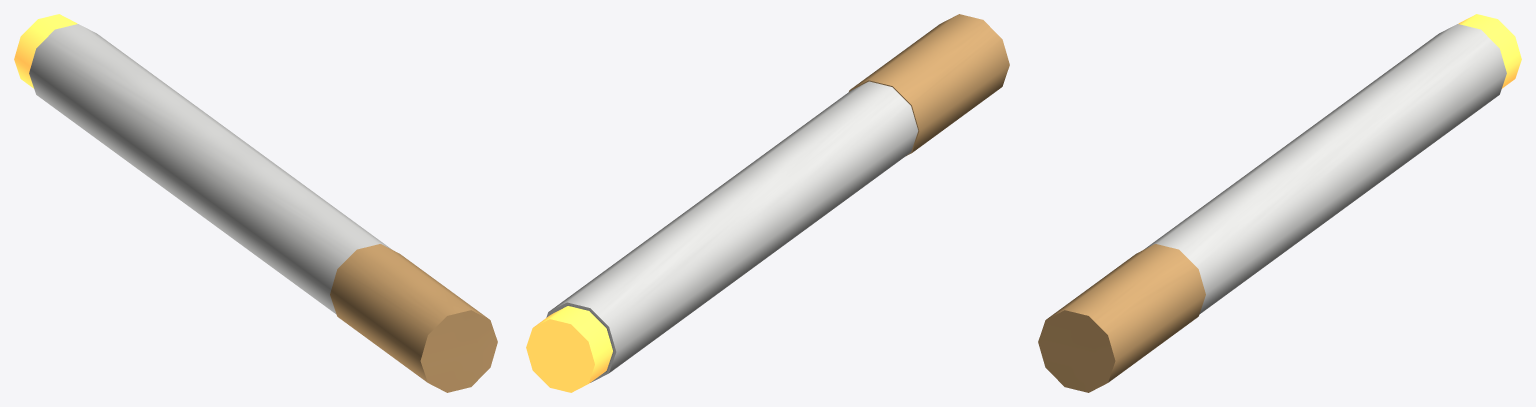
File: cig.glb
3 views of the same model, side by side, from view 1: azimuth 30°, elevation 25°; view 2: azimuth 150°, elevation 25°; view 3: azimuth 330°, elevation 25° (orthographic).
Parts seen in each view (by area): view 1: cig_body, Tip; view 2: cig_body, Tip; view 3: cig_body, Tip.
Part boxes in pixels (x1=…): cig_body: x1=29, y1=24, x2=497, y2=392; Tip: x1=14, y1=14, x2=77, y2=88; cig_body: x1=546, y1=14, x2=1009, y2=382; Tip: x1=526, y1=306, x2=612, y2=392; cig_body: x1=1038, y1=24, x2=1506, y2=392; Tip: x1=1458, y1=14, x2=1521, y2=88.
Size of the model in its own units: 0.0148 by 0.0141 by 0.136.
4 materials, 3 textured.
